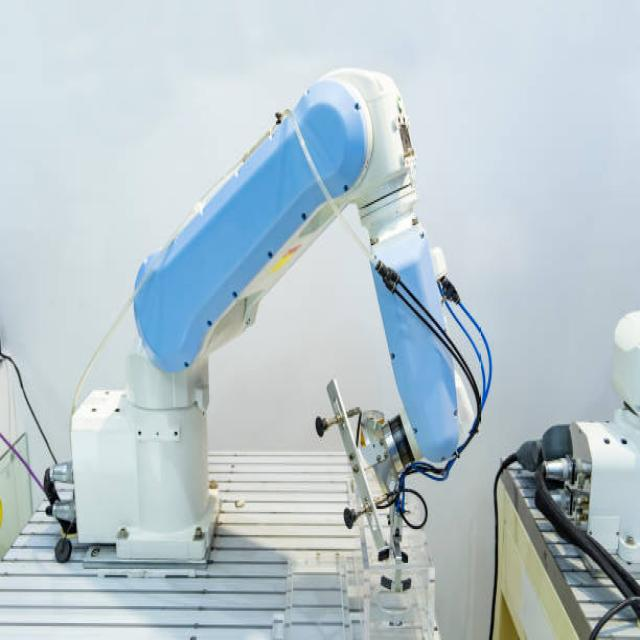Robotic-arm: (64, 56, 490, 562)
